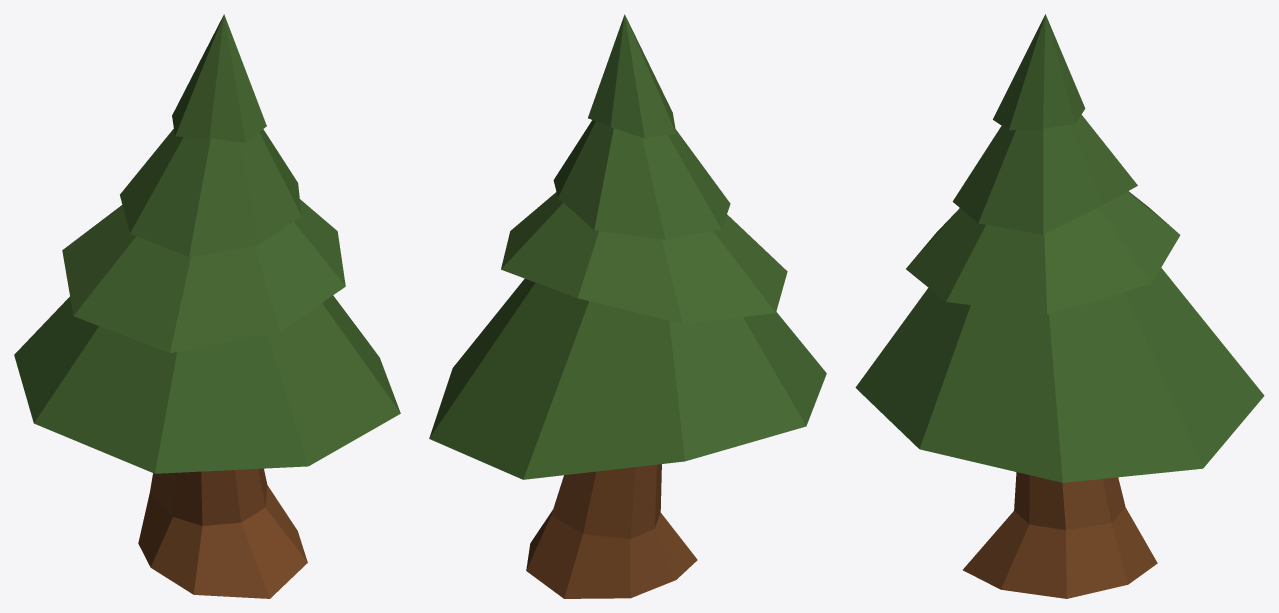
File: NO SNOW TREE 2.fbx
The picture shows the model from 3 angles, left to right: view 1: azimuth 30°, elevation 25°; view 2: azimuth 150°, elevation 25°; view 3: azimuth 270°, elevation 25°; orthographic projection.
Visible parts, largest first — view 1: NO SNOW PINE TREE 2; view 2: NO SNOW PINE TREE 2; view 3: NO SNOW PINE TREE 2.
Part boxes in pixels (bbox=[...]): NO SNOW PINE TREE 2: bbox=[14, 14, 400, 598]; NO SNOW PINE TREE 2: bbox=[429, 14, 826, 598]; NO SNOW PINE TREE 2: bbox=[855, 14, 1264, 598].
Bounding box in the file's own units: 497 × 752 × 503.
